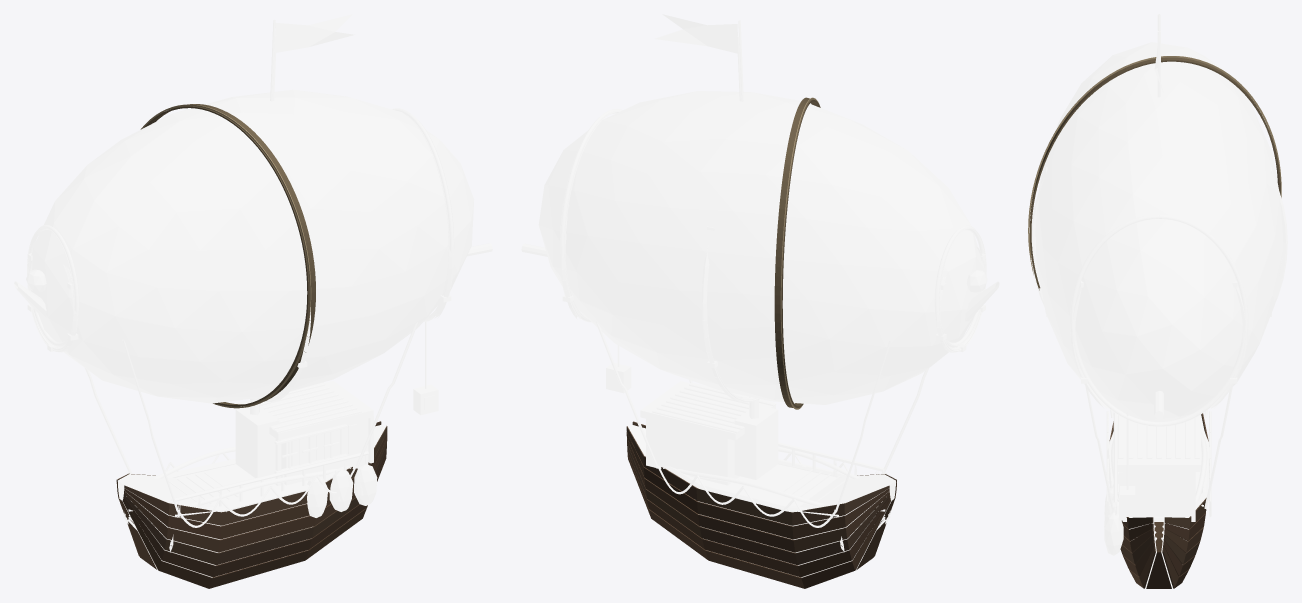
The model's file is airship.glb.
3 views of the same model, side by side, from view 1: azimuth 30°, elevation 25°; view 2: azimuth 150°, elevation 25°; view 3: azimuth 270°, elevation 25° (orthographic). The views are drawn at different scales.
Visible parts, largest first — view 1: Envelope, Gondola, Rigging, Leather belt 2, Flag, Hull plank 1 2 2, Hull plank 1 1 2, Hull plank 1 3 2, Belt stitching 2, Hull plank 1 4 2, Hull plank 1 0 2, Hull plank 1 5 2 (+9 smaller); view 2: Envelope, Gondola, Rigging, Leather belt 2, Flag, Hull plank -1 1 2, Hull plank -1 2 2, Hull plank -1 0 2, Hull plank -1 3 2, Hull plank -1 4 2, Hull plank -1 5 2, Leather belt 3 (+10 smaller); view 3: Envelope, Gondola, Rigging, Leather belt 3, Leather belt 2, Belt stitching 2, Closed wooden keel, Upper gunwale -1, Tension cable 1_1, Tension cable 1_-1.
Boxes of the visible parts, <box> form: Envelope: <box>31,89,474,403</box>; Gondola: <box>117,381,438,577</box>; Rigging: <box>14,35,492,562</box>; Leather belt 2: <box>144,104,315,406</box>; Flag: <box>275,14,354,52</box>; Hull plank 1 2 2: <box>218,515,315,552</box>; Hull plank 1 1 2: <box>220,504,309,539</box>; Hull plank 1 3 2: <box>216,526,314,564</box>; Belt stitching 2: <box>140,104,311,408</box>; Hull plank 1 4 2: <box>213,538,311,577</box>; Hull plank 1 0 2: <box>221,491,307,525</box>; Hull plank 1 5 2: <box>209,550,308,588</box>; Envelope: <box>538,91,984,404</box>; Gondola: <box>606,363,895,577</box>; Rigging: <box>521,35,999,562</box>; Leather belt 2: <box>774,97,820,407</box>; Flag: <box>654,14,737,53</box>; Hull plank -1 1 2: <box>697,501,793,539</box>; Hull plank -1 2 2: <box>698,514,795,552</box>; Hull plank -1 0 2: <box>696,488,792,525</box>; Hull plank -1 3 2: <box>699,527,797,564</box>; Hull plank -1 4 2: <box>702,538,800,577</box>; Hull plank -1 5 2: <box>705,550,804,588</box>; Leather belt 3: <box>560,108,622,322</box>; Envelope: <box>1035,42,1283,421</box>; Gondola: <box>1104,414,1205,588</box>; Rigging: <box>1031,31,1287,540</box>; Leather belt 3: <box>1069,214,1248,426</box>; Leather belt 2: <box>1030,57,1280,290</box>; Belt stitching 2: <box>1028,56,1281,274</box>; Closed wooden keel: <box>1146,522,1171,588</box>; Upper gunwale -1: <box>1195,432,1207,501</box>; Tension cable 1_1: <box>1085,386,1113,508</box>; Tension cable 1_-1: <box>1204,386,1232,508</box>.
Bounding box in the file's own units: 14.43 × 15.75 × 6.59.
